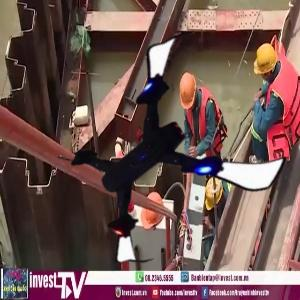drone: (60, 40, 267, 247)
